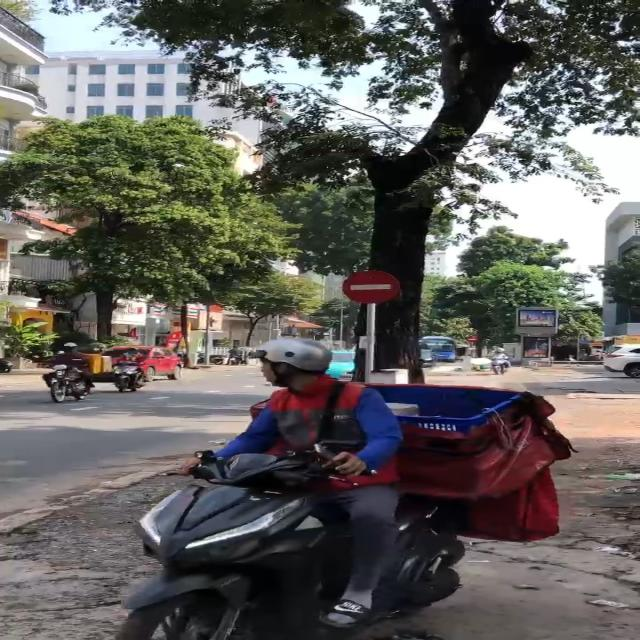Bien bao cam di nguoc chieu: (337, 267, 402, 304)
